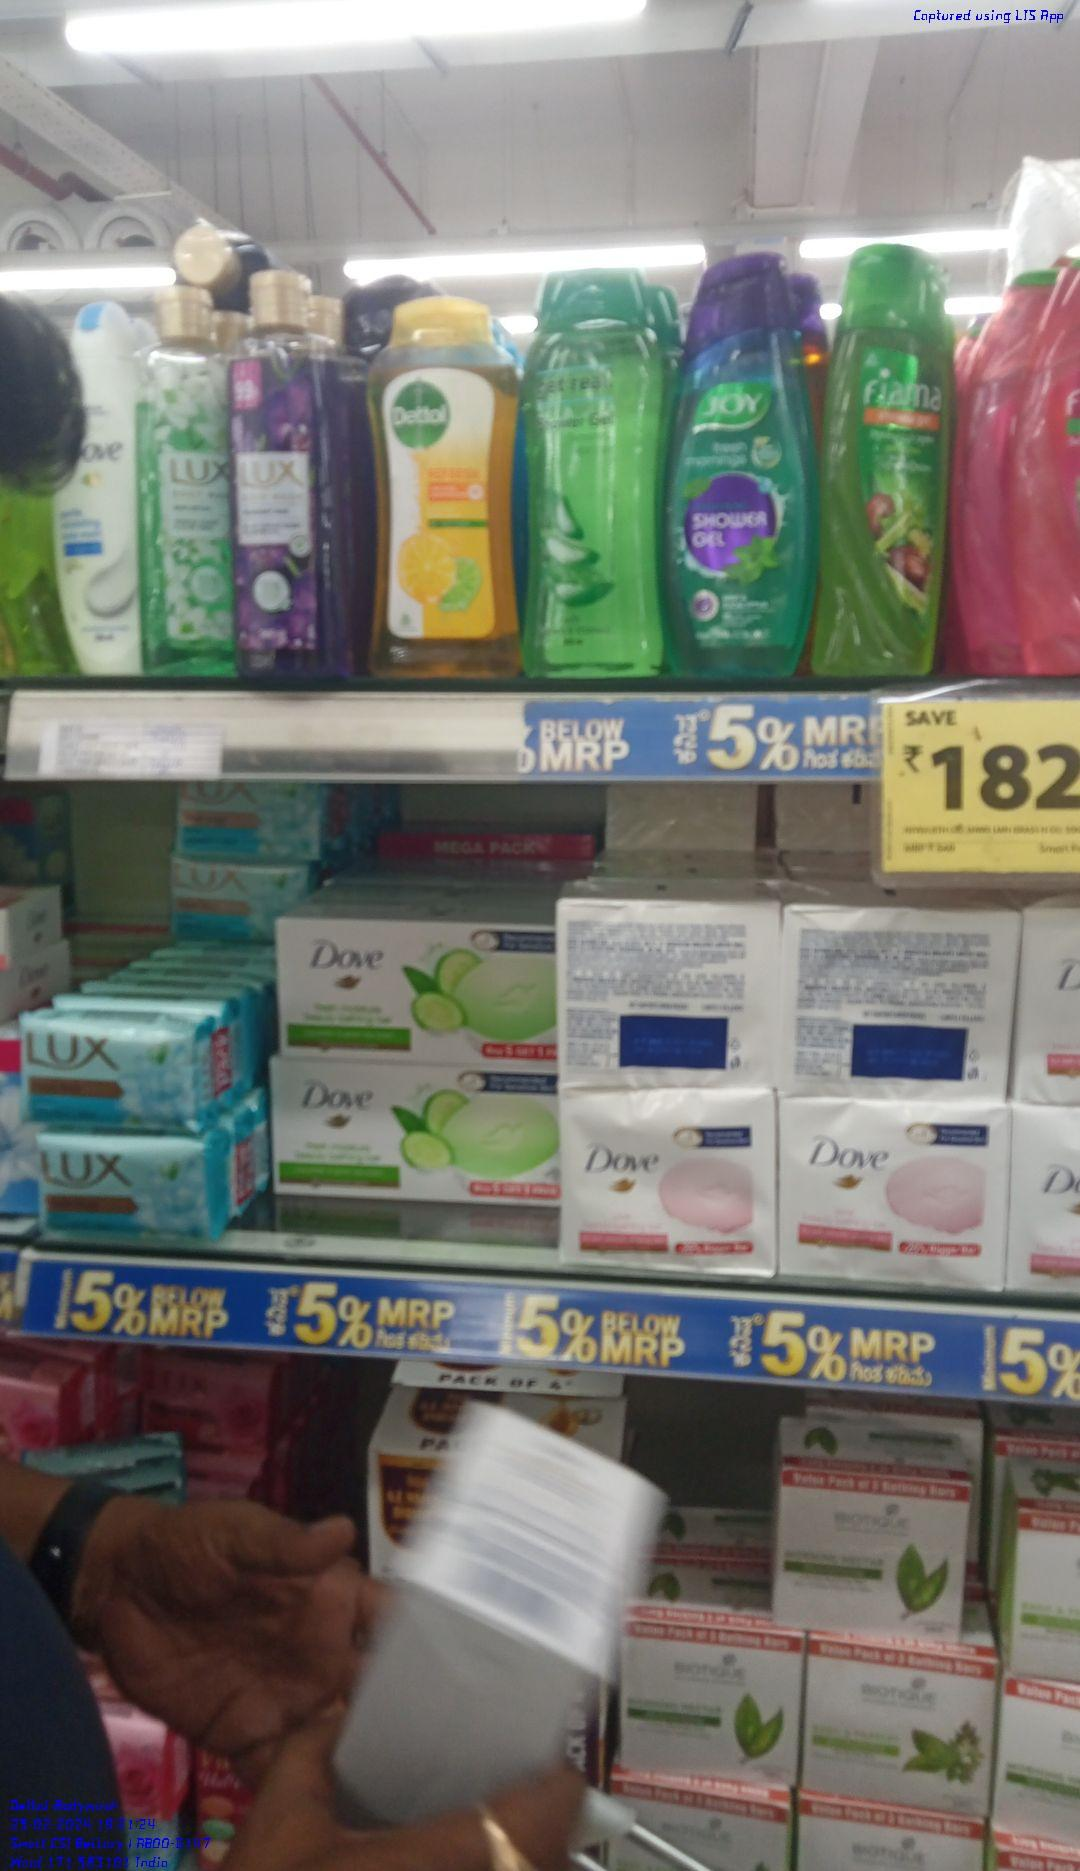Dettol_Nourish_Body_Wash_250ML: (369, 294, 518, 677)
Fiama_Shower_Gel_Lemongrass_and_Jojoba_250ML: (825, 239, 954, 682)
Joy_Shower_Gel_Mint_and_Eucalyptus_250ML: (672, 254, 814, 676)
Lux_Black_Orchid_Scent_and_Juniper_Oil_Body_Wash_245ML: (230, 269, 346, 694)
Lux_Body_Wash_Skin_Detox_Freesia_Scent_and_Alove_Vera_245ML: (135, 280, 228, 666)
